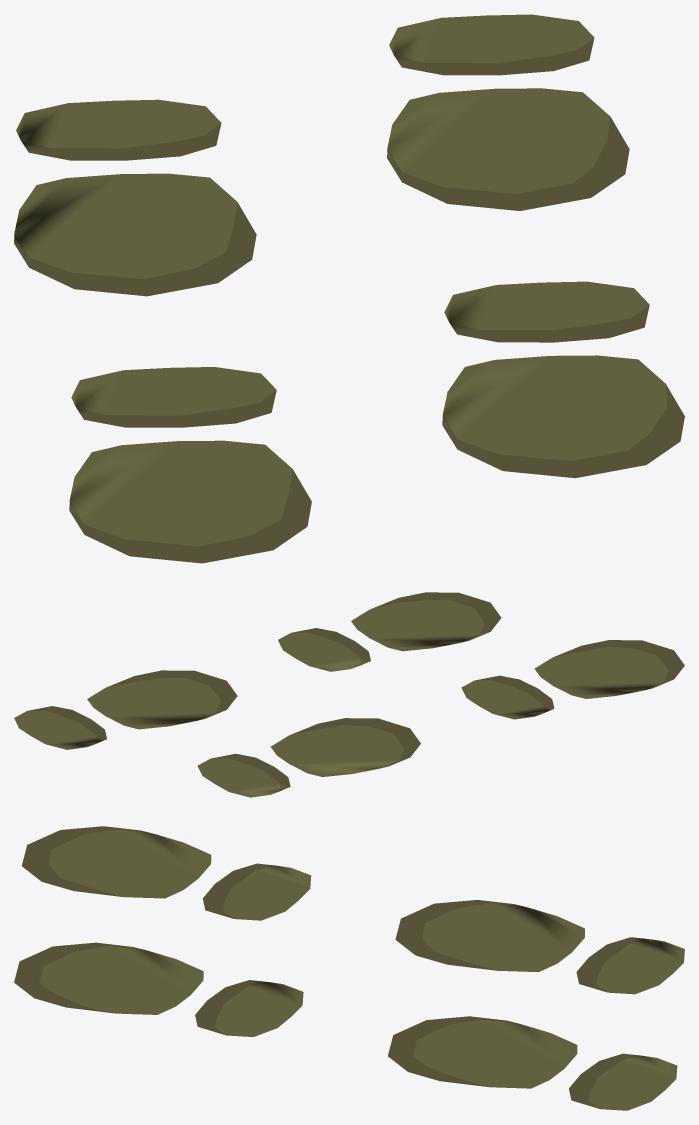
The model's file is NPC_Footprints_004.glb.
3 views of the same model, one above another, from view 1: azimuth 30°, elevation 25°; view 2: azimuth 150°, elevation 25°; view 3: azimuth 270°, elevation 25° (orthographic). The views are drawn at different scales.
Visible parts, largest first — view 1: NPC_Footprints_004_mesh; view 2: NPC_Footprints_004_mesh; view 3: NPC_Footprints_004_mesh.
Part boxes in pixels (x1=…): NPC_Footprints_004_mesh: x1=14, y1=14, x2=684, y2=563; NPC_Footprints_004_mesh: x1=14, y1=592, x2=684, y2=797; NPC_Footprints_004_mesh: x1=14, y1=826, x2=684, y2=1110.
Bounding box in the file's own units: 1.43 × 3.13e-07 × 1.42.
Materials: 1 (1 with a texture image).
